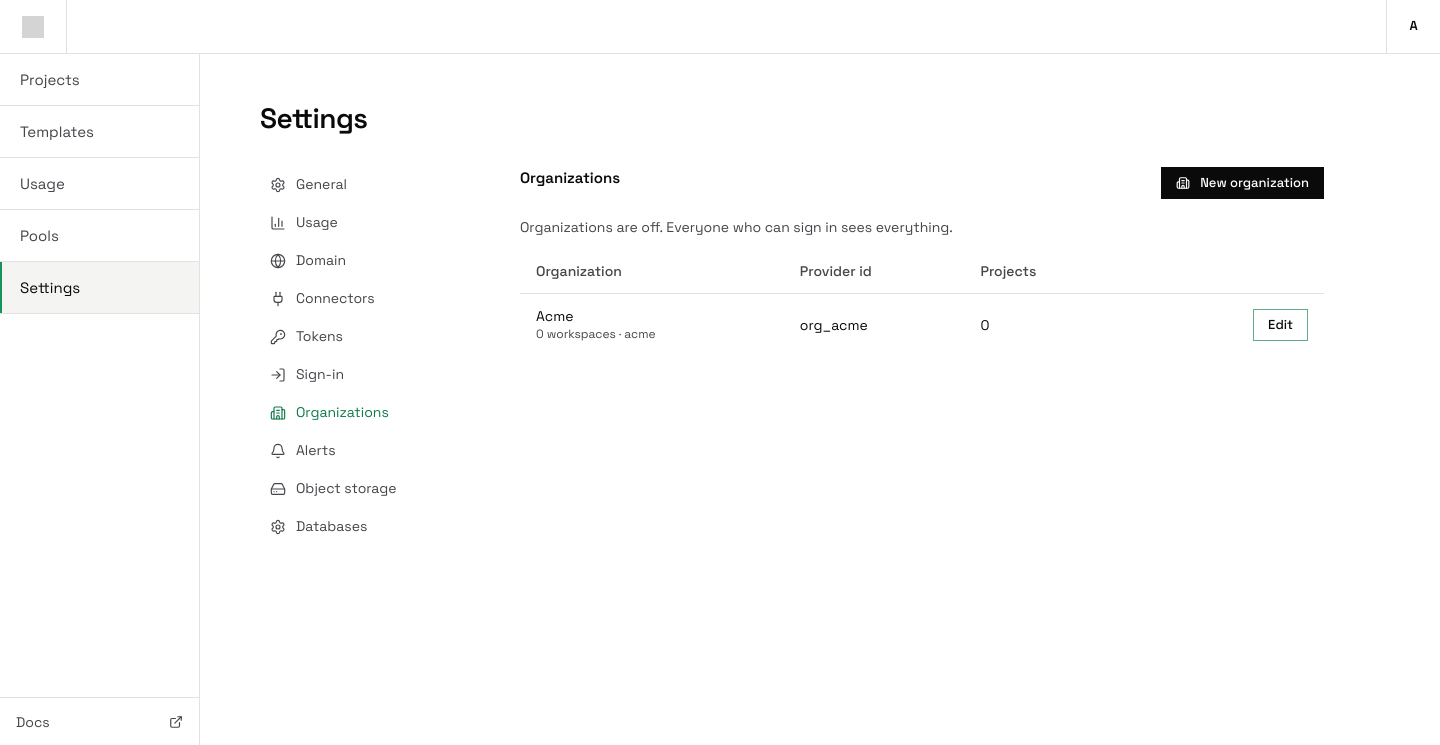
Organizations › shows an organization's own sign-in provider with nothing to change it with when the platform manages sign-in, and still lets organizations be edited
Click the button with aria-label "Edit Acme".
click(1281, 325)  # box [1253,309,1308,341]
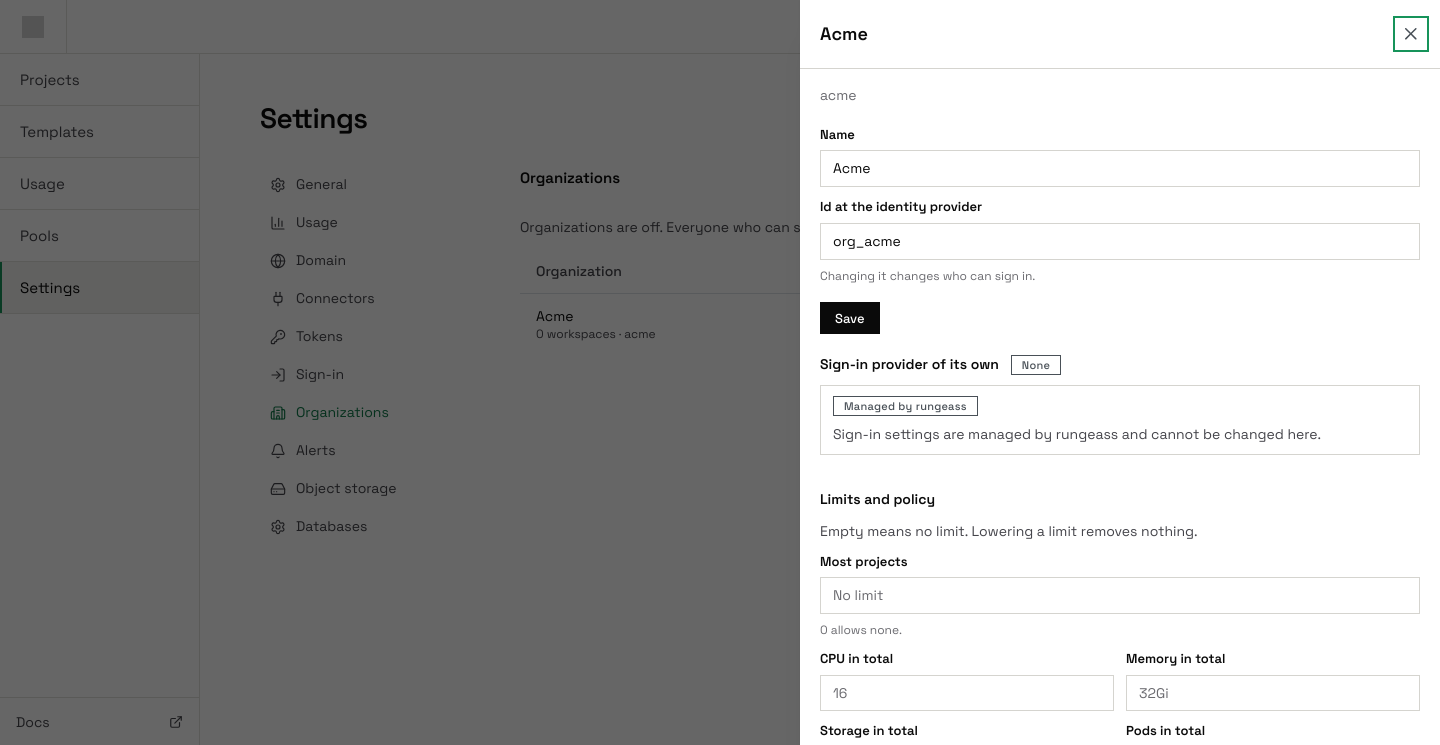
Expected: the text "Sign-in provider of its own" is shown, [820,354,999,375]
Expected: the text "Managed by rungeass" is shown, [844,397,967,415]
Expected: the text "Sign-in settings are managed by rungeass and cannot be changed here." is shown, [833,424,1321,444]
